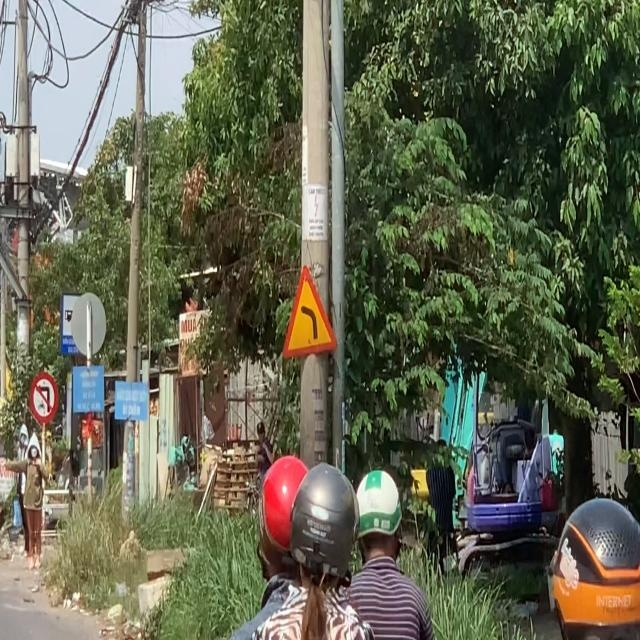bien_cam: (280, 262, 340, 364)
